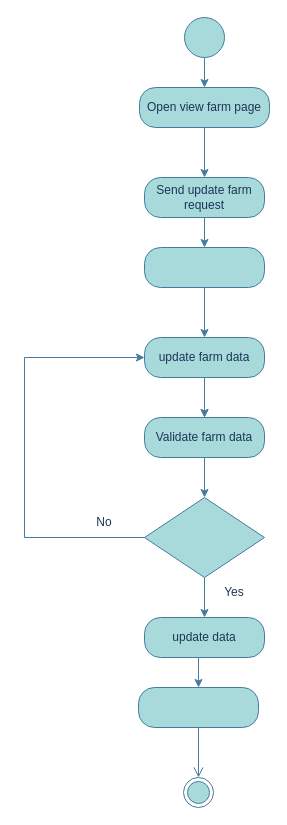
Image size: 287x825. Some labels were removed from this diagram. Here are the shapes that lost their labels. From the top down, the centre of each, then its label:
At (x=204, y=267): "Open edit farm page".
At (x=204, y=537): "If data valid".
At (x=198, y=707): "Show success message".
